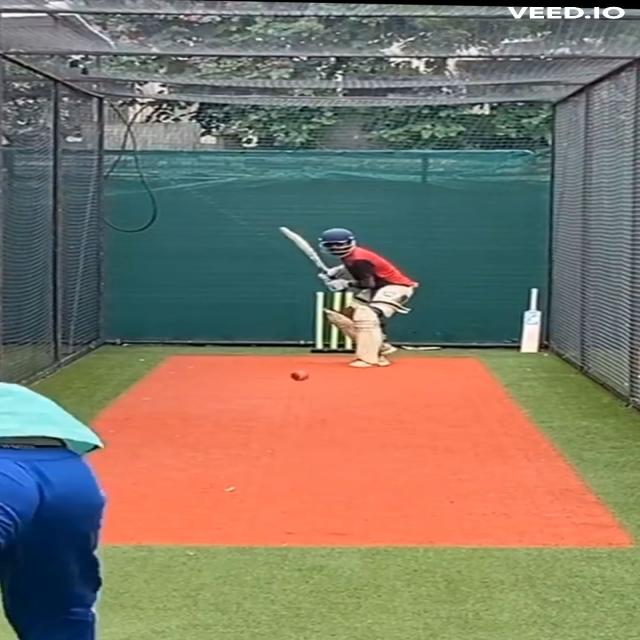ball: (286, 368, 314, 385)
stump: (314, 289, 362, 356)
